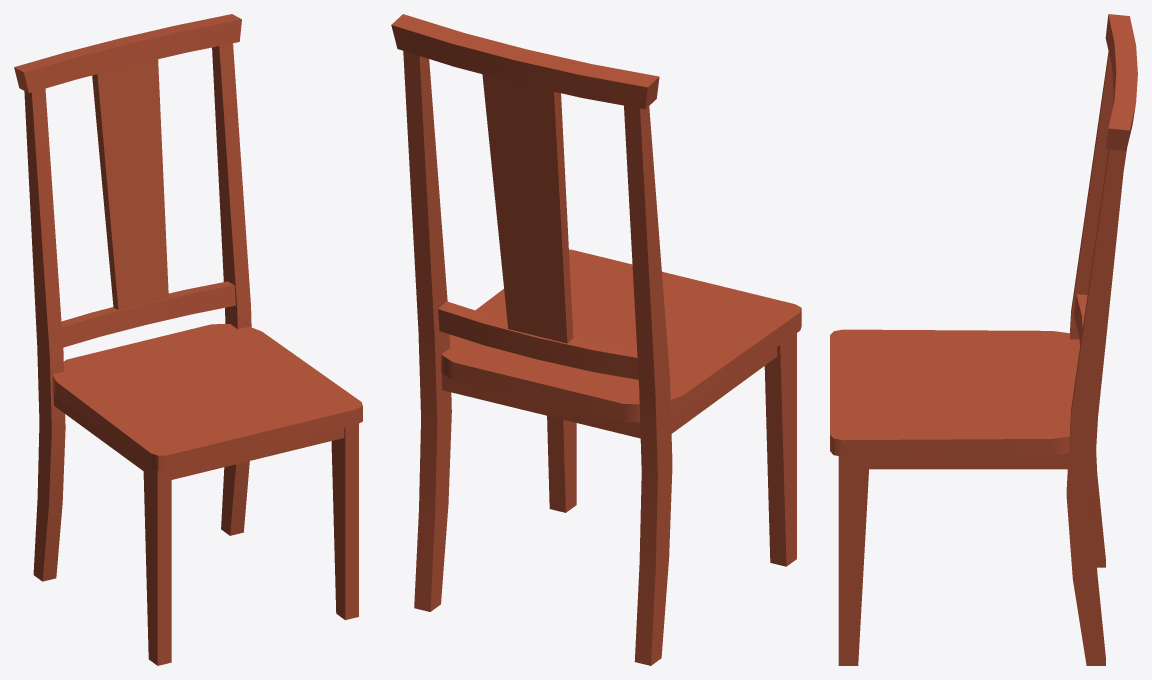
File: chair1.fbx
3 views of the same model, side by side, from view 1: azimuth 30°, elevation 25°; view 2: azimuth 150°, elevation 25°; view 3: azimuth 270°, elevation 25° (orthographic). The views are drawn at different scales.
Visible parts, largest first — view 1: chair_01; view 2: chair_01; view 3: chair_01.
Part boxes in pixels (<box>): chair_01: <box>14,14,362,665</box>; chair_01: <box>391,14,801,665</box>; chair_01: <box>830,14,1137,665</box>.
Bounding box in the file's own units: 40.05 × 88.42 × 45.54.
